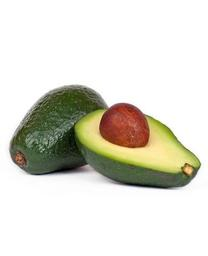avocado: (72, 103, 202, 188), (8, 83, 110, 176)
